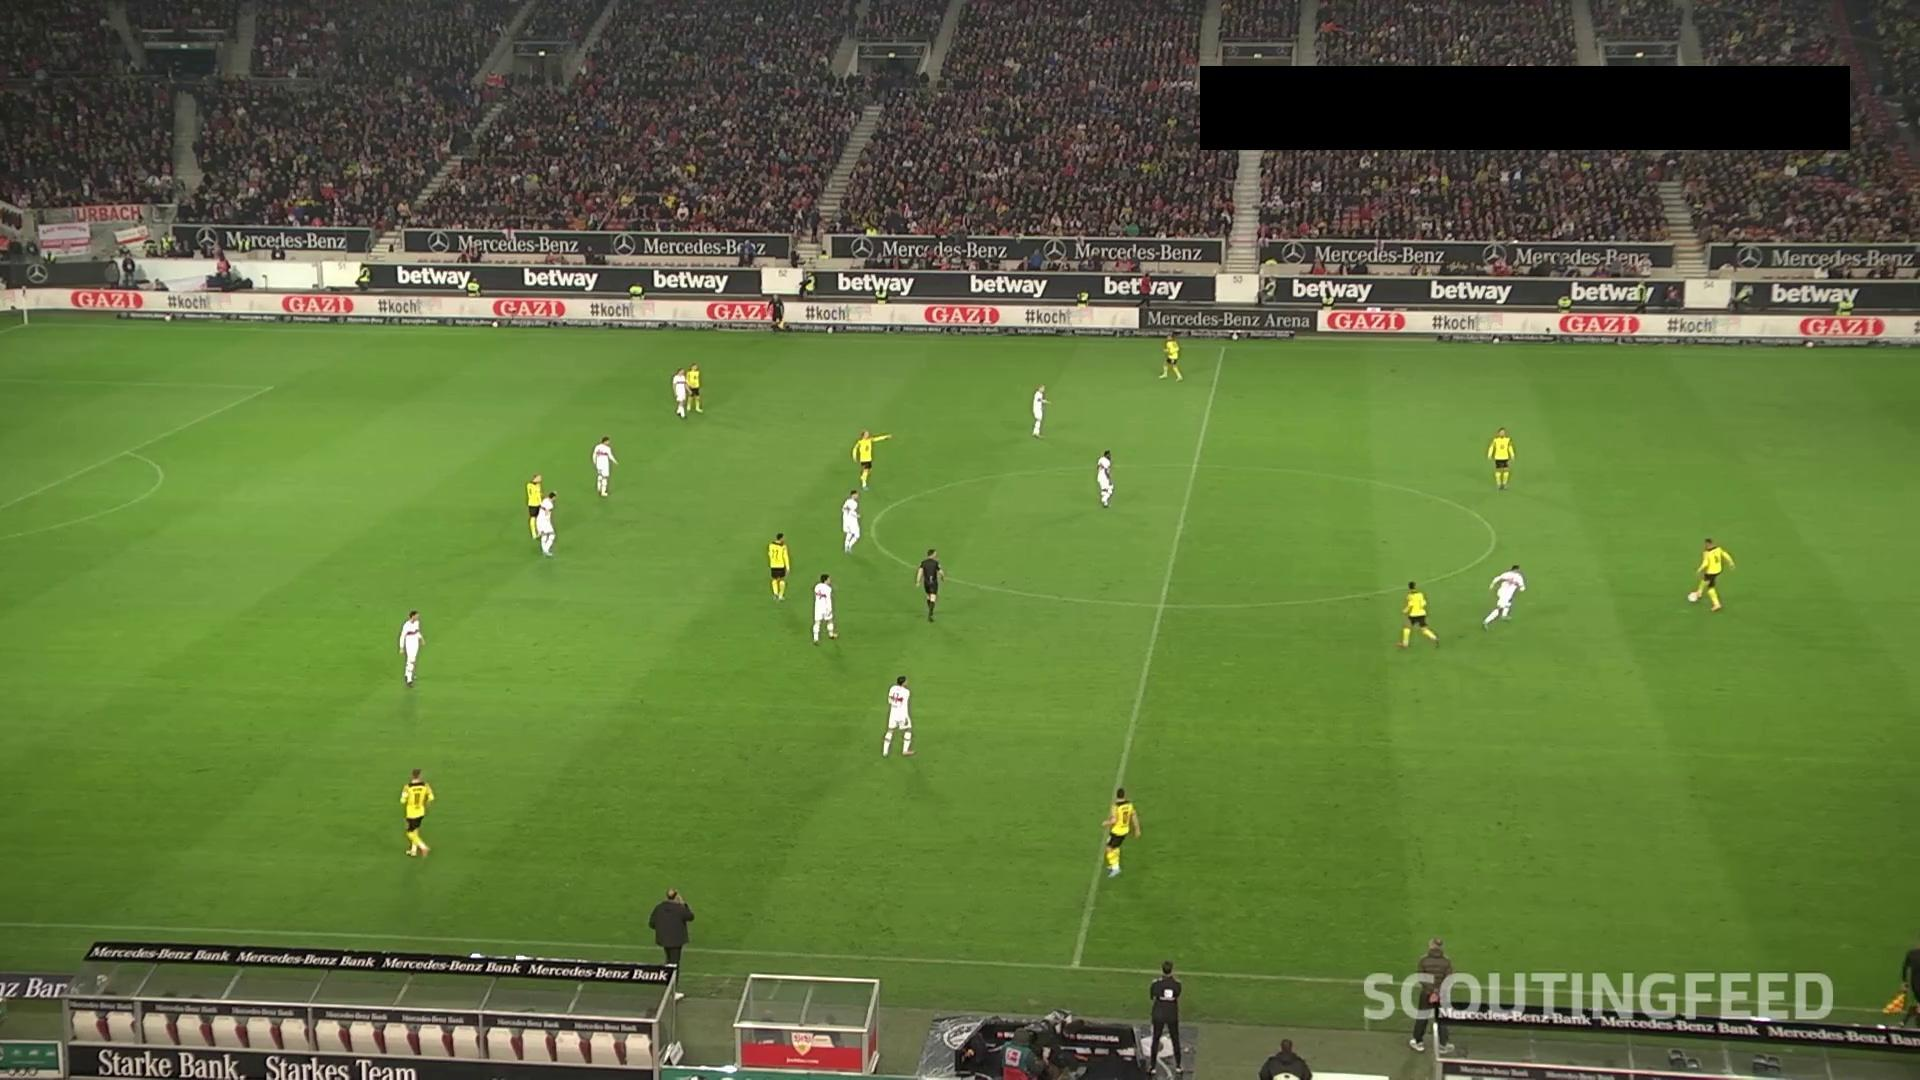Location-of-ball: (1684, 587, 1702, 608)
